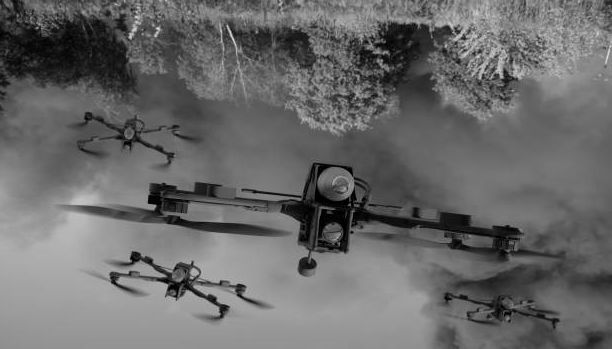Drone: (52, 159, 571, 276), (78, 245, 276, 324), (62, 108, 203, 171), (438, 285, 566, 336)
